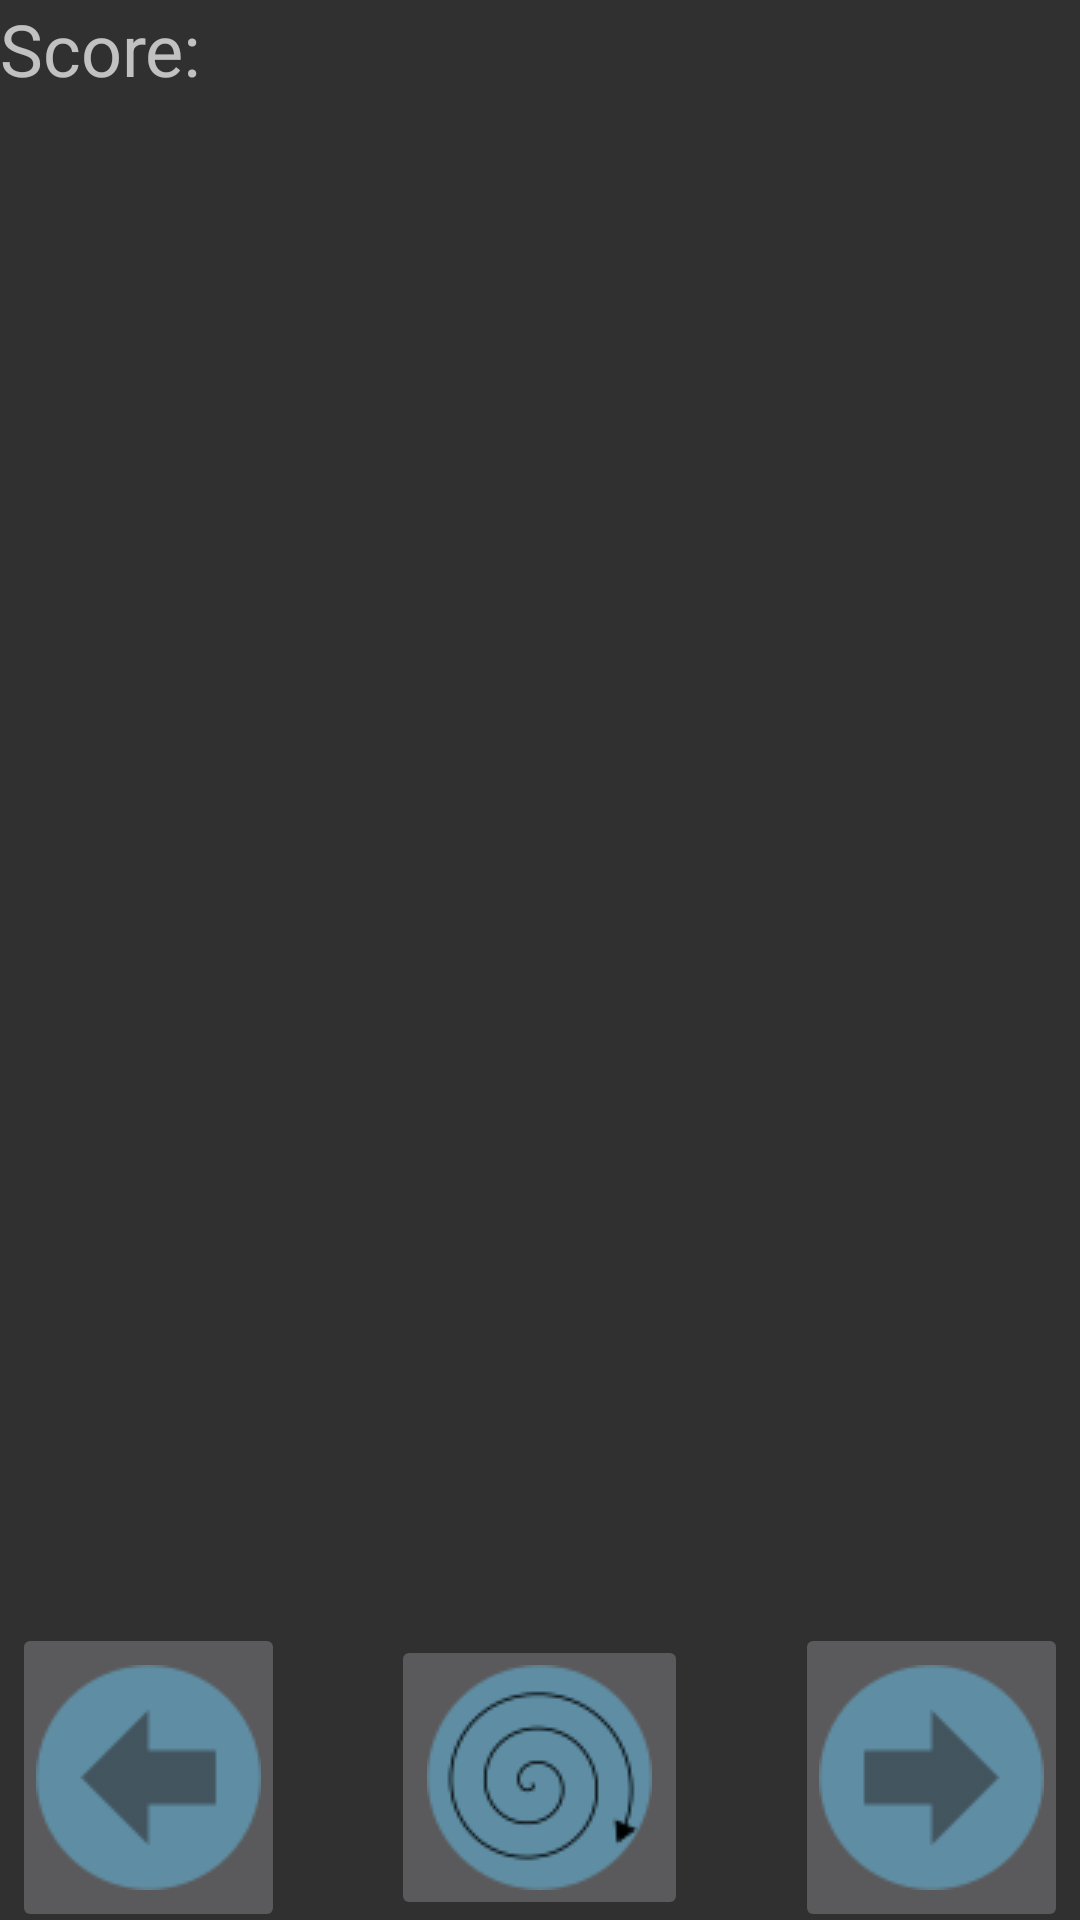

Point at icon controls on the screen. Image size 1080px×1920px, points as point (x, y).
rotate: point (539, 1777)
